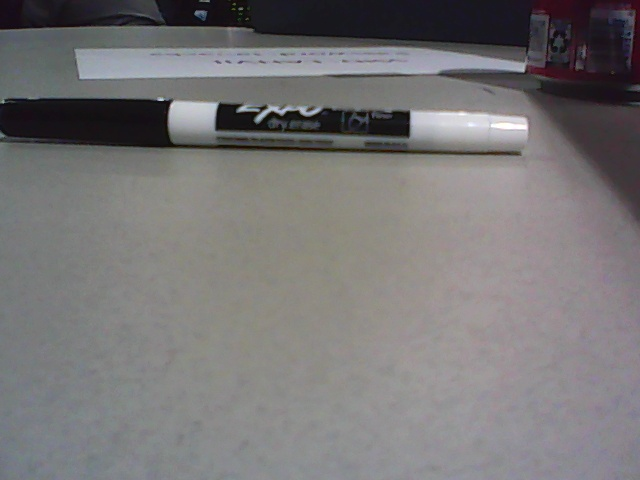marker: (1, 98, 528, 156)
